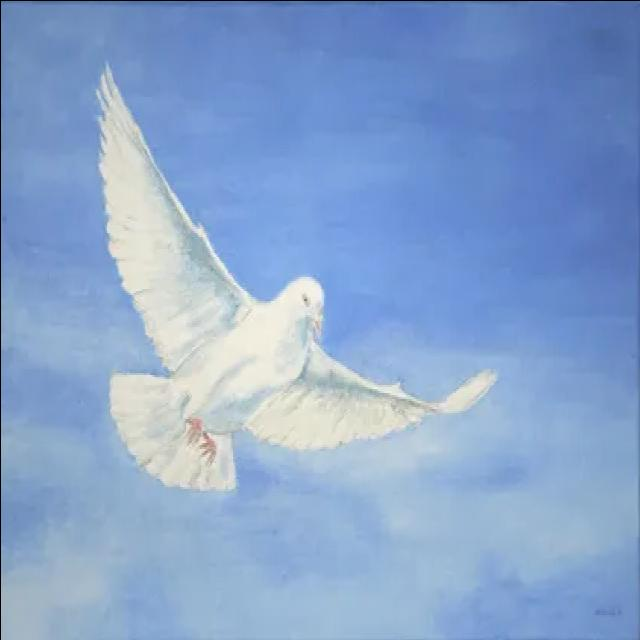pigeon: (84, 58, 512, 503)
